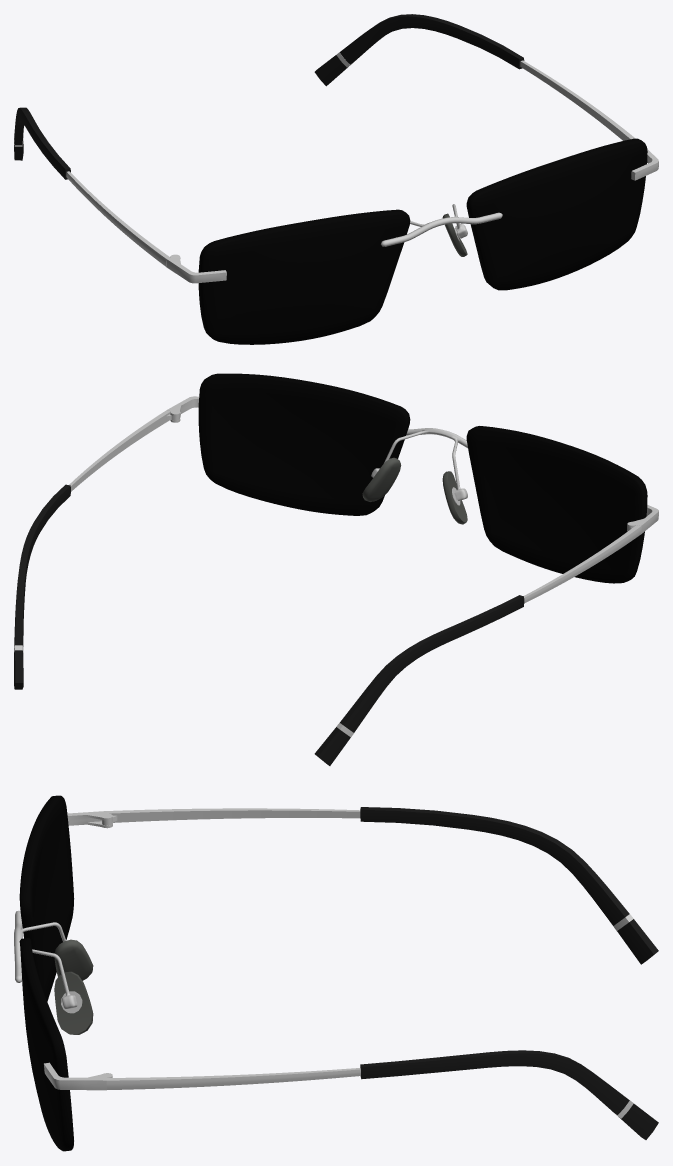
Rendered from SM_Glasses_07.FBX.
3 renders of one model, top to bottom at view 1: azimuth 30°, elevation 25°; view 2: azimuth 150°, elevation 25°; view 3: azimuth 270°, elevation 25°, orthographic. The views are drawn at different scales.
Visible parts, largest first — view 1: SM_Glasses_07; view 2: SM_Glasses_07; view 3: SM_Glasses_07.
Boxes of the visible parts, box(x1,y1,x2,y2) form: SM_Glasses_07: box(14, 14, 658, 344); SM_Glasses_07: box(14, 373, 658, 765); SM_Glasses_07: box(14, 795, 658, 1151).
Bounding box in the file's own units: 14 × 3.42 × 13.9.
